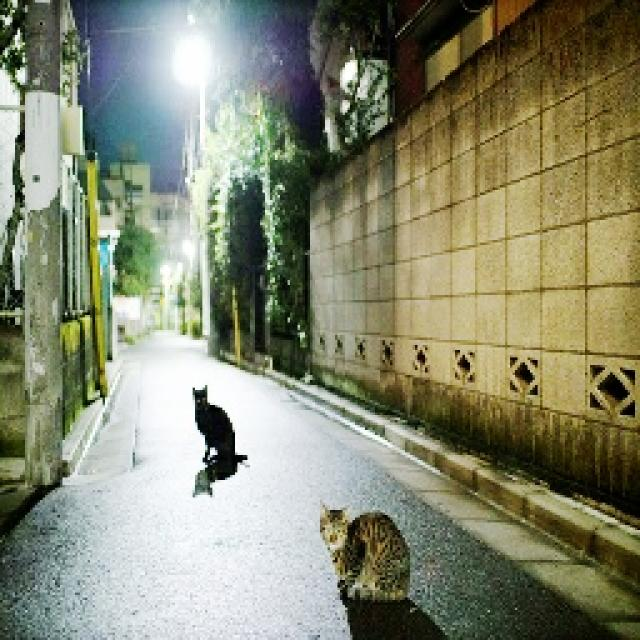cat: (317, 499, 415, 602), (189, 382, 249, 473)
